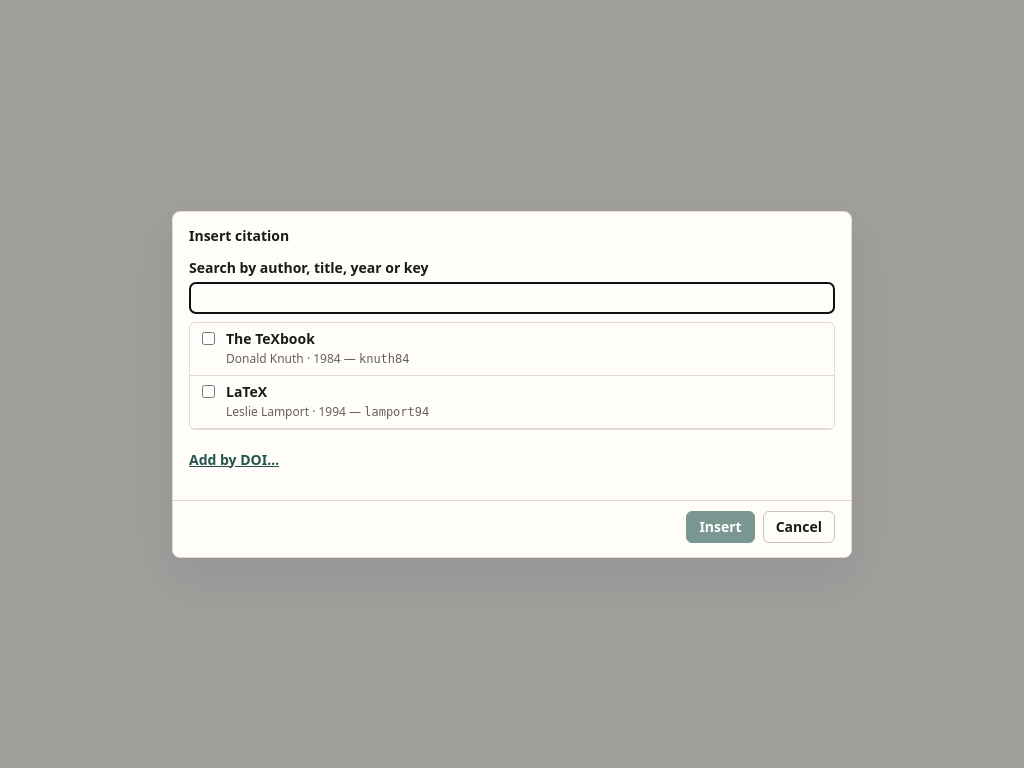
Test: CitationDialog › searches by author, title, year or key and inserts the picked keys
Later steps or results of the test are not shown.
Expected: the button "Insert" is disabled, [686,510,755,542]
Type "1994" into the field at (512, 298), box [189,282,835,314]
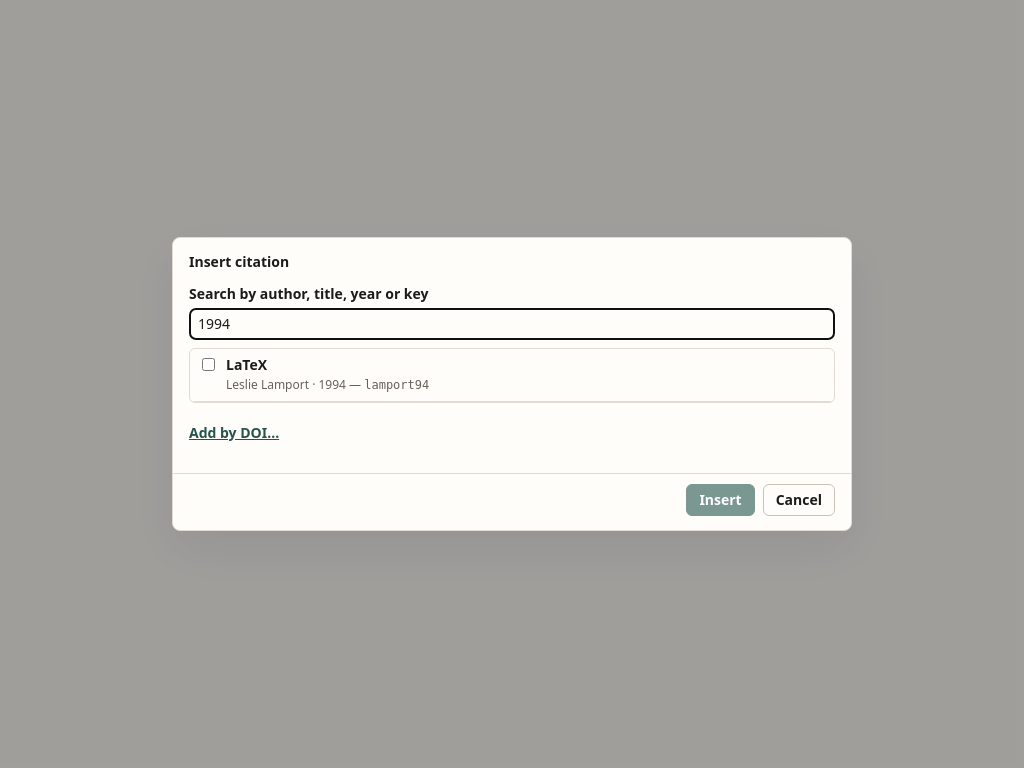
Expected: the number of checkboxes is 1, [202,358,215,371]
